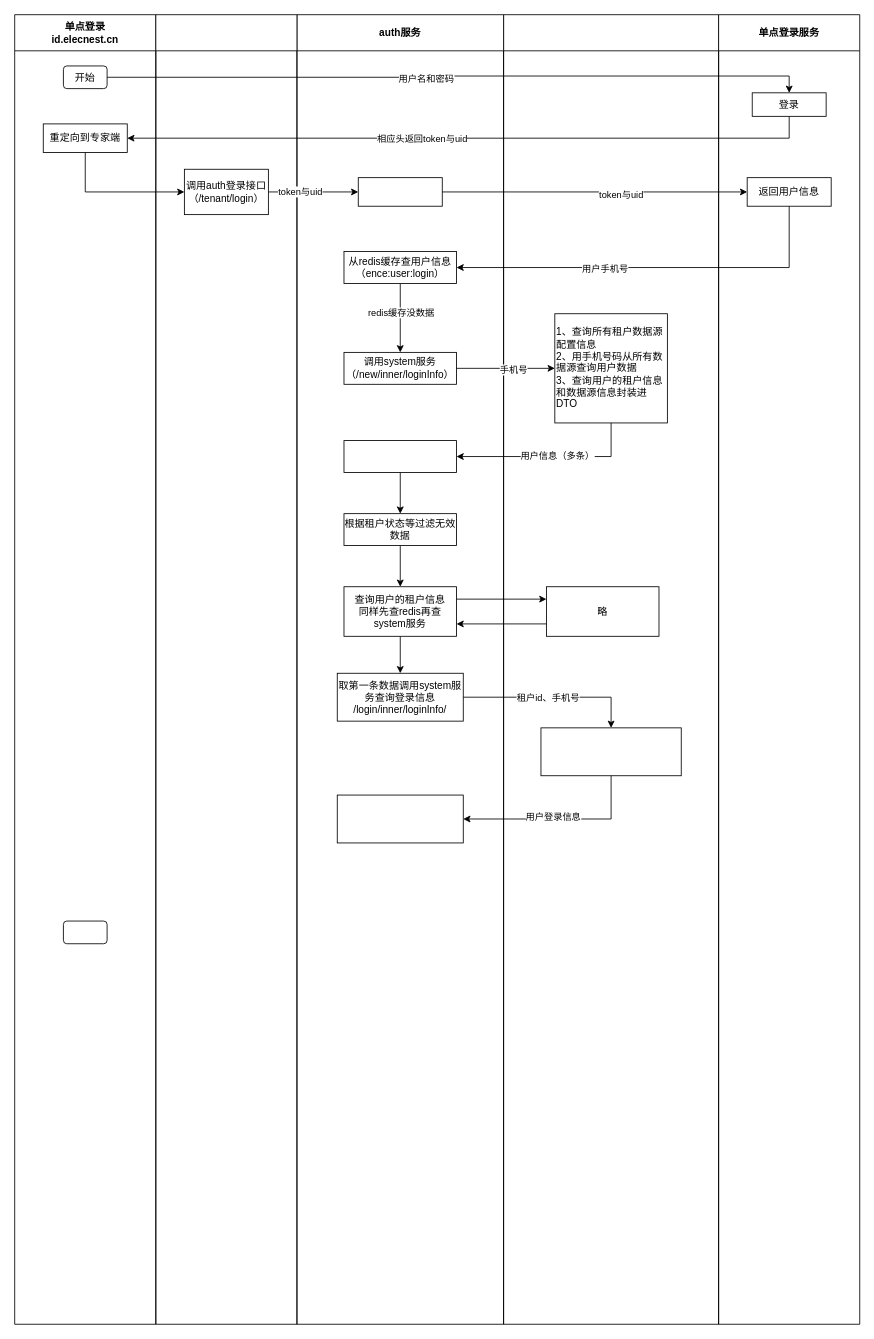
The diagram is 874 pixels wide and 1339 high, and some of its shapes have lost their labels. Here are the shapes that lost their labels. From the top down, the box of each, then its label:
(357, 177, 442, 206): 调用单点登录服务
(343, 440, 457, 472): 缓存用户信息到redis （ence:user:login）
(155, 14, 297, 1324): 专家端 ipd.elecnest.cn
(503, 14, 719, 1324): system服务
(540, 727, 681, 776): 1、设置数据源到ThreadLocal 2、查询用户信息、租户、岗位、角色、菜单权限
(336, 794, 463, 843): 生成token（待续）
(63, 920, 107, 944): 结束
